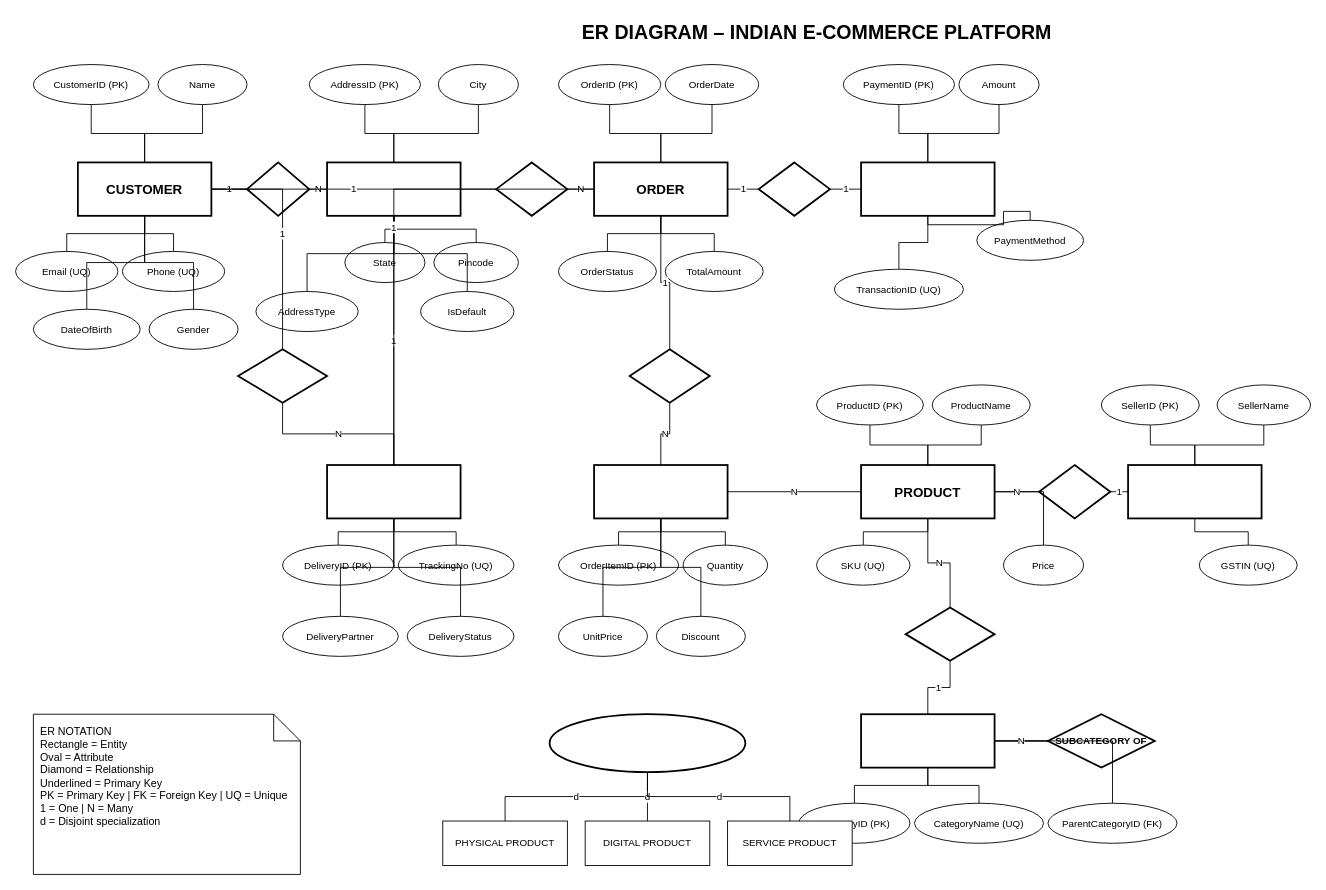
This 1326x890 diagram has some shape labels left out. The box of each missing label's shape, as (x1, y1, x2, y2) in pixels:
ADDRESS: (326, 161, 461, 216)
BELONGS TO: (904, 606, 995, 661)
CATEGORY: (860, 713, 995, 768)
CONTAINS: (628, 348, 710, 403)
DELIVERS TO: (237, 348, 328, 403)
DELIVERY: (326, 464, 461, 519)
HAS: (246, 161, 310, 216)
LISTS: (1038, 464, 1111, 519)
ORDER ITEM: (593, 464, 728, 519)
PAID BY: (757, 161, 830, 216)
PAYMENT: (860, 161, 995, 216)
PLACES: (495, 161, 568, 216)
PRODUCT SPECIALIZATION (IS-A): (548, 713, 746, 773)
SELLER: (1127, 464, 1262, 519)
